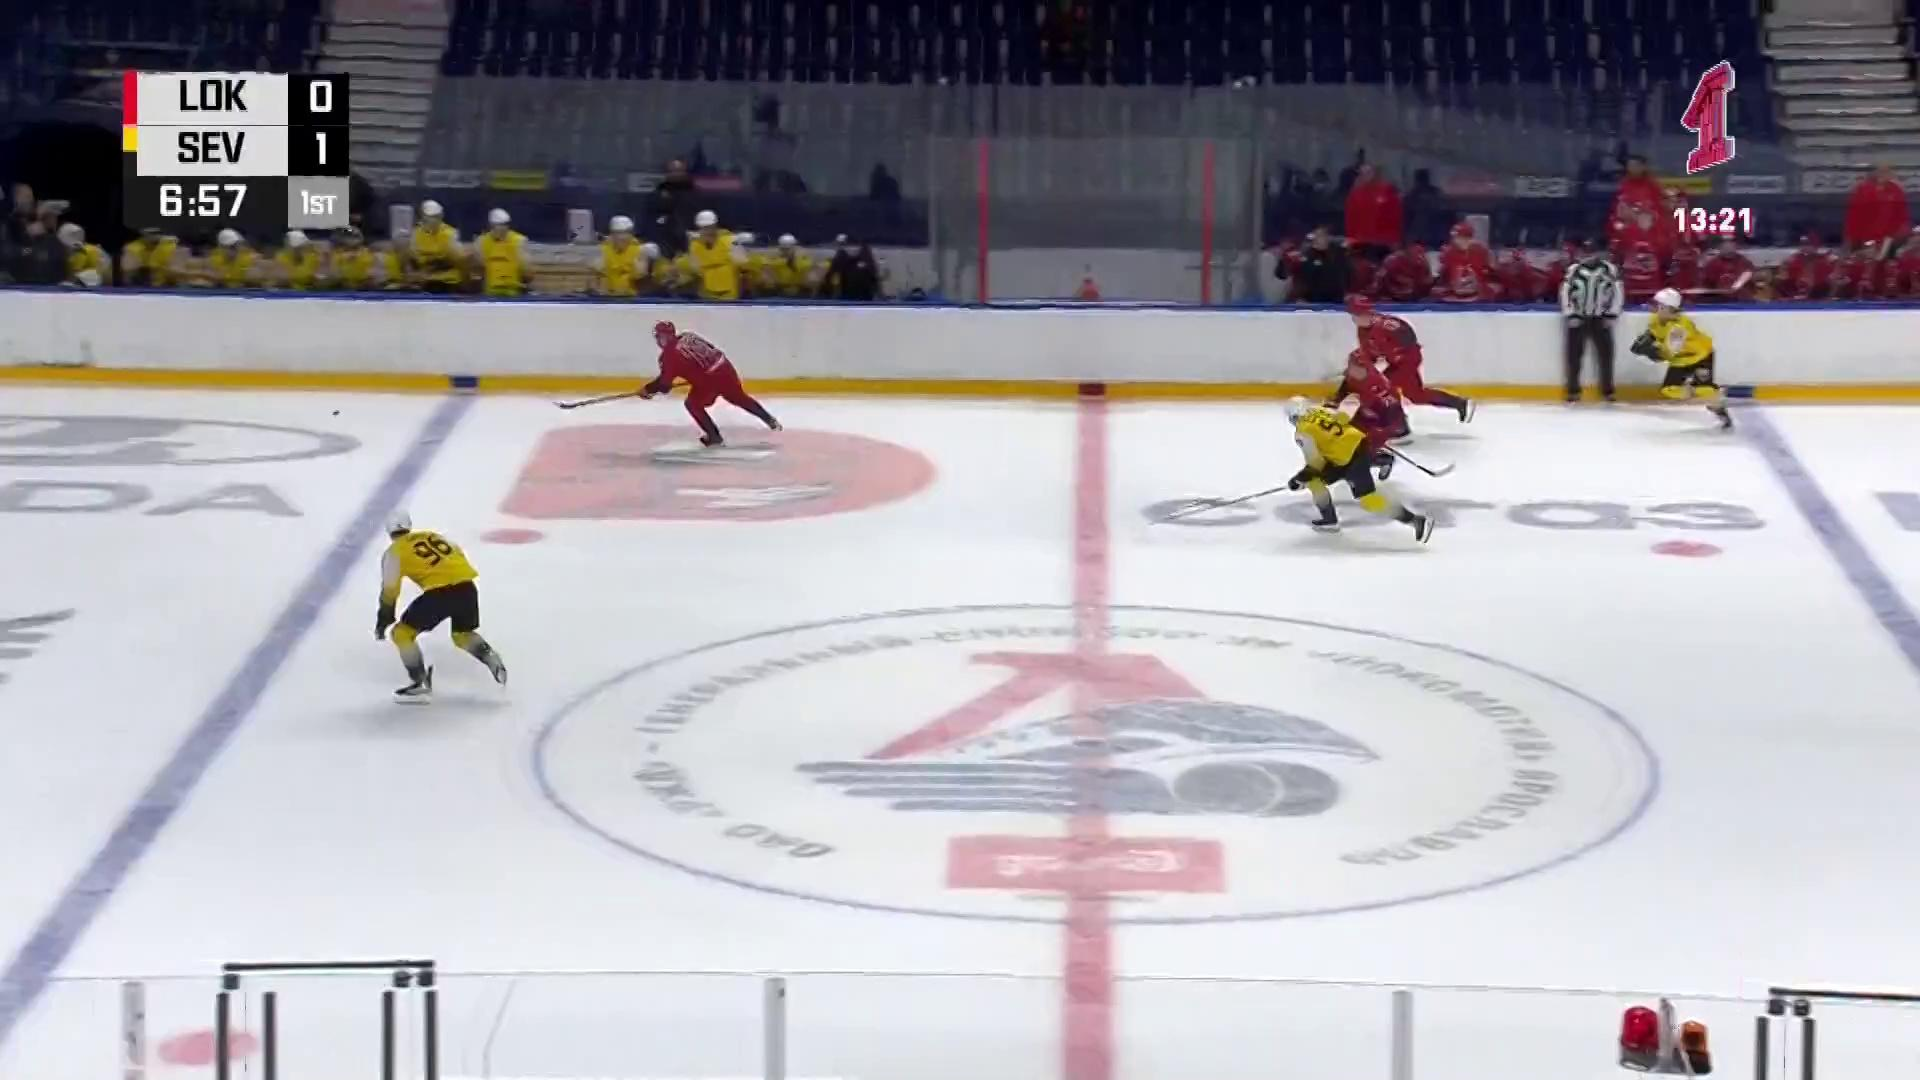ball: (332, 410, 342, 417)
